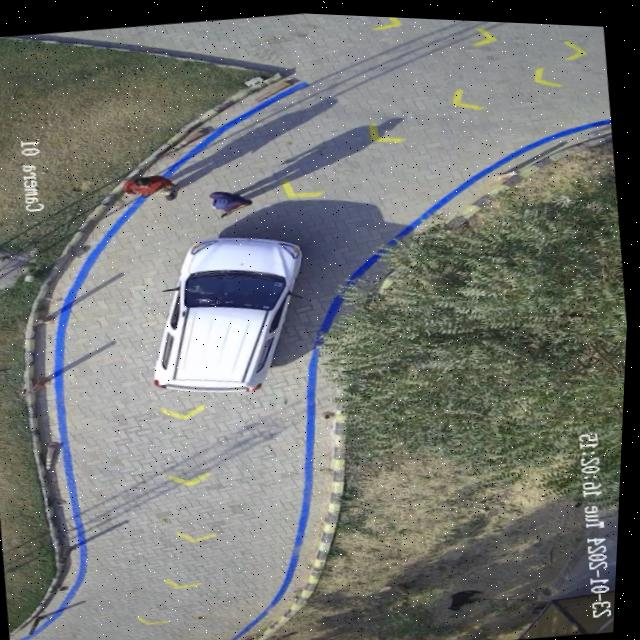car: (159, 235, 302, 389)
